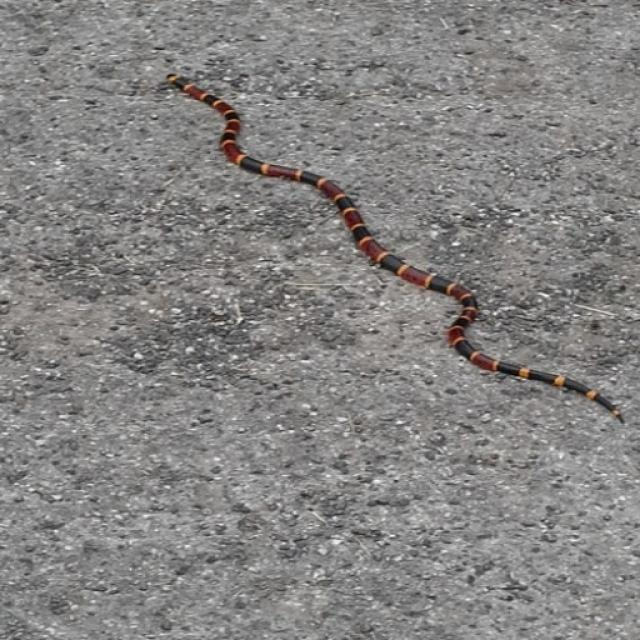snake: (160, 62, 622, 432)
